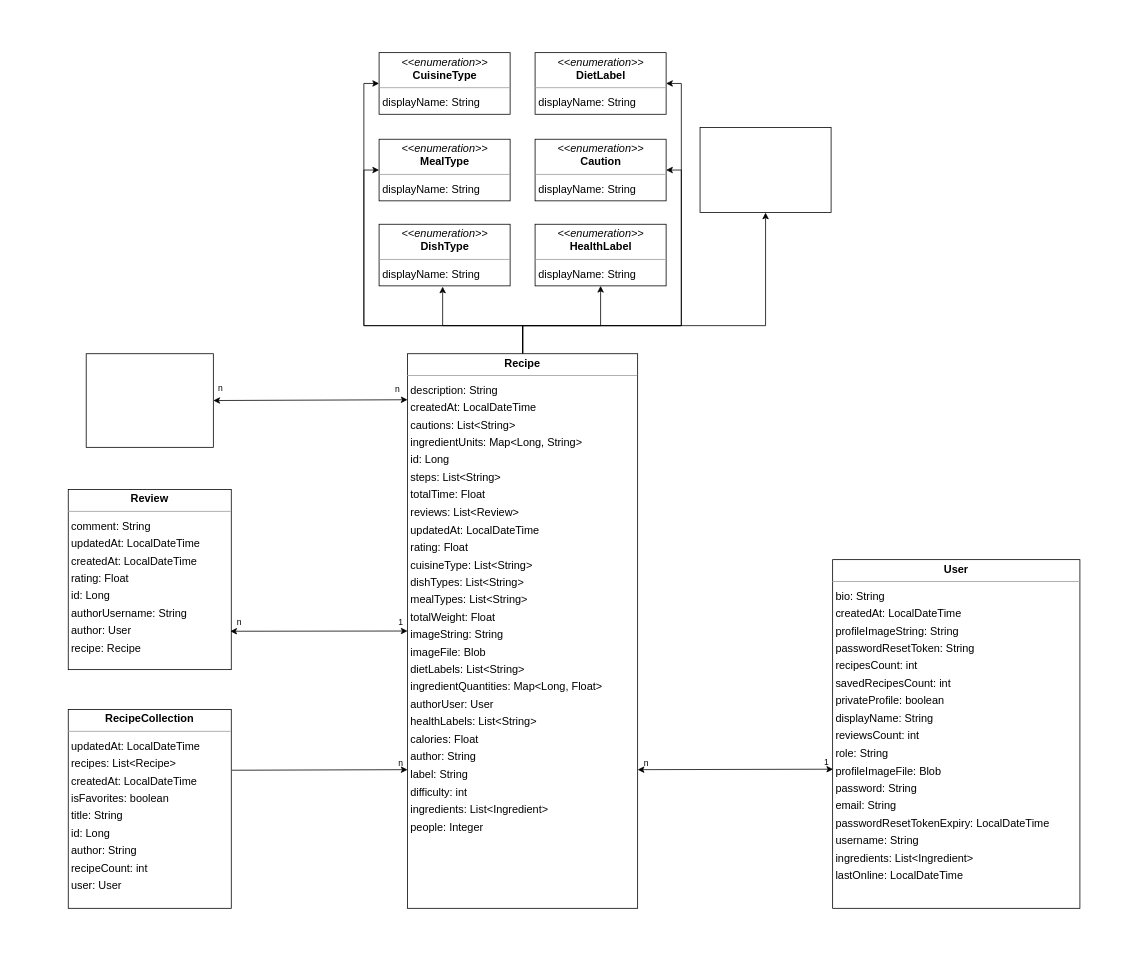
Image size: 1142x955. Some labels were removed from this diagram. Each missing label, with the box of its shape:
<<enumeration>> DifficultyLevel displayName: String value: int: (699, 127, 831, 213)
Ingredient imageString: String id: Long food: String: (85, 353, 213, 447)
